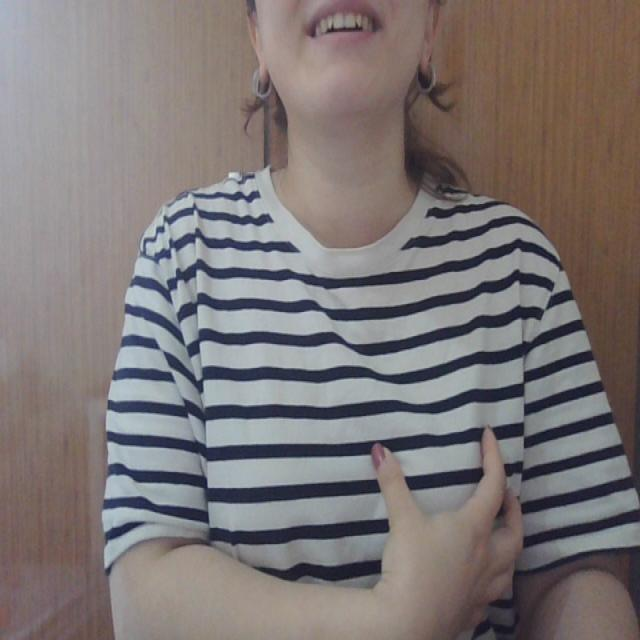Anne: (190, 380, 536, 631)
